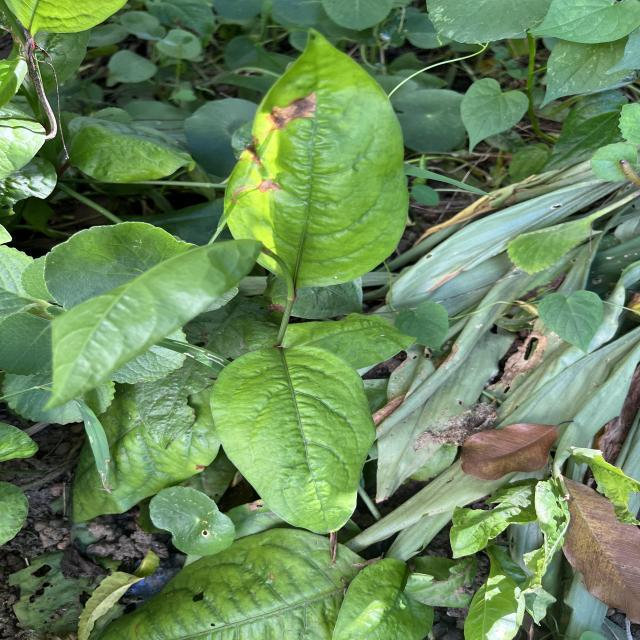Plumbago indica: (208, 22, 414, 292), (206, 336, 376, 538)
